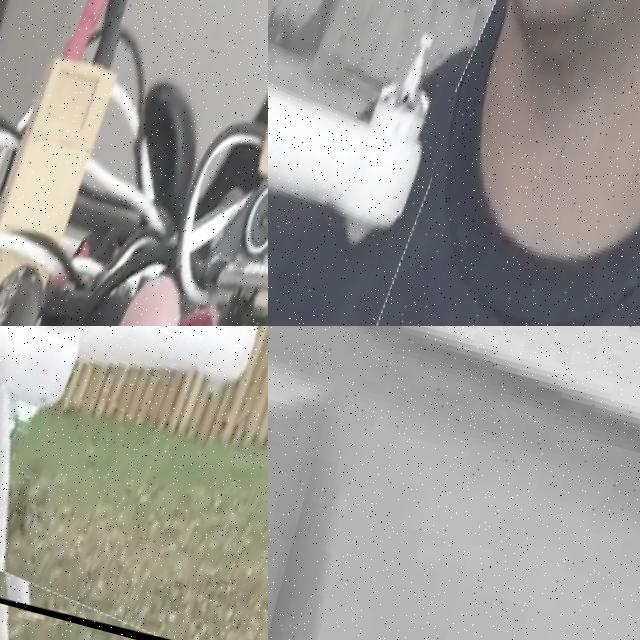drone: (0, 0, 268, 326), (0, 326, 268, 640), (268, 0, 496, 326)
